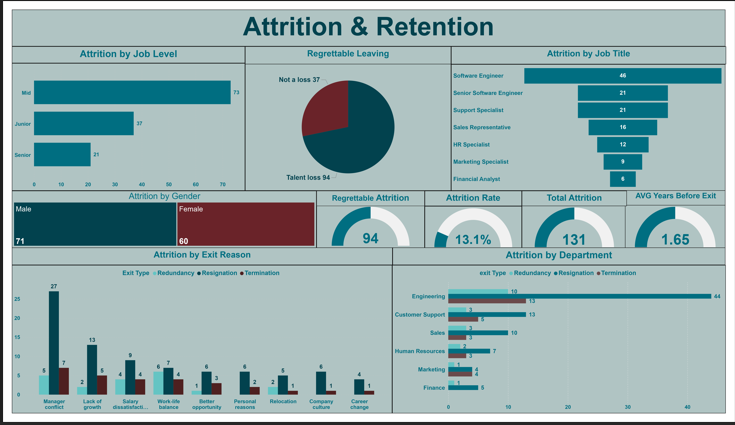

The page's visual inventory and layout, read from the dashboard file:
{"tool":"powerbi","page":{"name":"Attrition & Retention ","canvas":[2000,1130],"ordinal":4},"visuals":[{"type":"gauge","fields":{"Y":["Attrition_analysis.Total Attrition"]},"box":[1427.8,547.8,294.1,123.5],"z":0},{"type":"gauge","fields":{"Y":["Attrition_analysis.Attrition Rate"]},"box":[1156.1,550,271.6,121.2],"z":1000},{"type":"gauge","fields":{"Y":["Attrition_analysis.Regrettable Attrition"]},"box":[853.1,545.5,303.1,121.2],"z":2000},{"type":"gauge","fields":{"Y":["Attrition_analysis.Avg Years Before Exit"]},"box":[1717.3,545.5,280.6,125.7],"z":3000},{"type":"clusteredBarChart","fields":{"Category":["Attrition_analysis.department_name"],"Y":["Attrition_analysis.Total Attrition"],"Series":["Attrition_analysis.exit_type"]},"box":[1065.4,714.9,934,415.1],"z":4000},{"type":"textbox","box":[1066.4,665.9,931.4,49.5],"z":5000},{"type":"textbox","box":[853.1,507.3,303.1,42.7],"z":6000},{"type":"textbox","box":[1719.6,502.9,278.4,44.9],"z":7000},{"type":"textbox","box":[1427.8,507.3,294.1,42.7],"z":8000},{"type":"textbox","box":[1156.1,507.3,271.6,42.7],"z":9000},{"type":"barChart","fields":{"Category":["Attrition_analysis.job_level"],"Y":["Attrition_analysis.Total Attrition"]},"box":[0,150.4,653.3,356.9],"z":10000},{"type":"textbox","box":[0,103.3,653.3,47.1],"z":11000},{"type":"pieChart","fields":{"Y":["Attrition_analysis.Total Attrition"],"Category":["Attrition_analysis.Regrettable_leaving"]},"box":[653.3,150.4,576.9,356.9],"z":12000},{"type":"funnel","fields":{"Category":["Attrition_analysis.job_title"],"Y":["Attrition_analysis.Total Attrition"]},"box":[1230.2,152.7,767.8,354.7],"z":13000},{"type":"textbox","box":[653.3,103.3,576.9,49.4],"z":14000},{"type":"textbox","box":[1230.2,103.3,770,49.4],"z":15000},{"type":"clusteredColumnChart","fields":{"Category":["Attrition_analysis.exit_reason"],"Y":["Attrition_analysis.Total Attrition"],"Series":["Attrition_analysis.exit_type"]},"box":[0,714.9,1065.4,415.1],"z":16000},{"type":"textbox","box":[0,665.9,1066.4,49.5],"z":17000},{"type":"treemap","title":"Attrition by Gender","fields":{"Group":["Attrition_analysis.gender"],"Values":["Attrition_analysis.Total Attrition"]},"box":[0,507.3,853.1,159.4],"z":18000},{"type":"textbox","box":[0,0,1998,103.3],"z":19000}]}

Visuals, with their boxes in screenshot pixels (x1, y1, x2, y2), scaled from the page's 2000x1130 canvas onto the 735x425 screenshot:
gauge - Attrition_analysis.Total Attrition: detection(525, 206, 633, 252)
gauge - Attrition_analysis.Attrition Rate: detection(425, 207, 525, 252)
gauge - Attrition_analysis.Regrettable Attrition: detection(314, 205, 425, 251)
gauge - Attrition_analysis.Avg Years Before Exit: detection(631, 205, 734, 252)
clusteredBarChart - Attrition_analysis.department_name x Attrition_analysis.Total Attrition: detection(392, 269, 734, 424)
textbox: detection(392, 250, 734, 269)
textbox: detection(314, 191, 425, 207)
textbox: detection(632, 189, 734, 206)
textbox: detection(525, 191, 633, 207)
textbox: detection(425, 191, 525, 207)
barChart - Attrition_analysis.job_level x Attrition_analysis.Total Attrition: detection(0, 57, 240, 191)
textbox: detection(0, 39, 240, 57)
pieChart - Attrition_analysis.Total Attrition x Attrition_analysis.Regrettable_leaving: detection(240, 57, 452, 191)
funnel - Attrition_analysis.job_title x Attrition_analysis.Total Attrition: detection(452, 57, 734, 191)
textbox: detection(240, 39, 452, 57)
textbox: detection(452, 39, 734, 57)
clusteredColumnChart - Attrition_analysis.exit_reason x Attrition_analysis.Total Attrition: detection(0, 269, 392, 424)
textbox: detection(0, 250, 392, 269)
"Attrition by Gender" treemap: detection(0, 191, 314, 251)
textbox: detection(0, 0, 734, 39)
